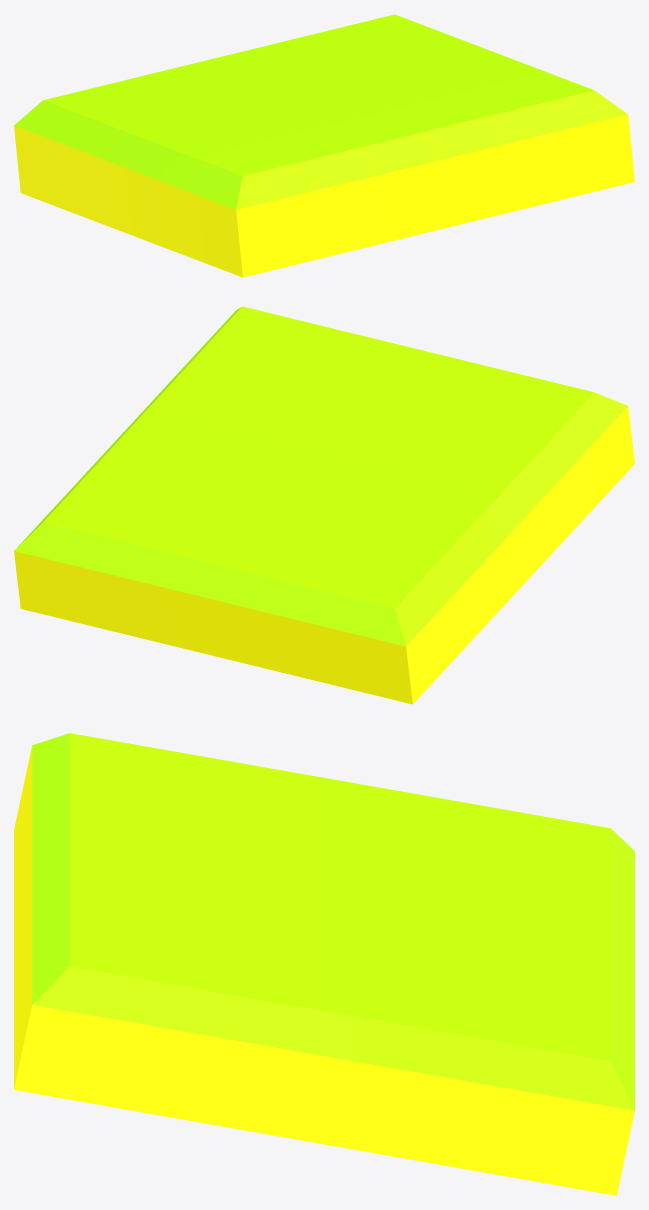
File: ButtonD.glb
3 renders of one model, top to bottom at view 1: azimuth 30°, elevation 25°; view 2: azimuth 150°, elevation 25°; view 3: azimuth 270°, elevation 25°, orthographic. The views are drawn at different scales.
Visible parts, largest first — view 1: ButtonD; view 2: ButtonD; view 3: ButtonD.
Boxes of the visible parts, bbox=[...] form: ButtonD: bbox=[14, 14, 634, 277]; ButtonD: bbox=[14, 306, 634, 704]; ButtonD: bbox=[14, 733, 634, 1195].
Size of the model in its own units: 0.5336 by 0.2077 by 0.5397.
1 material, 1 textured.
